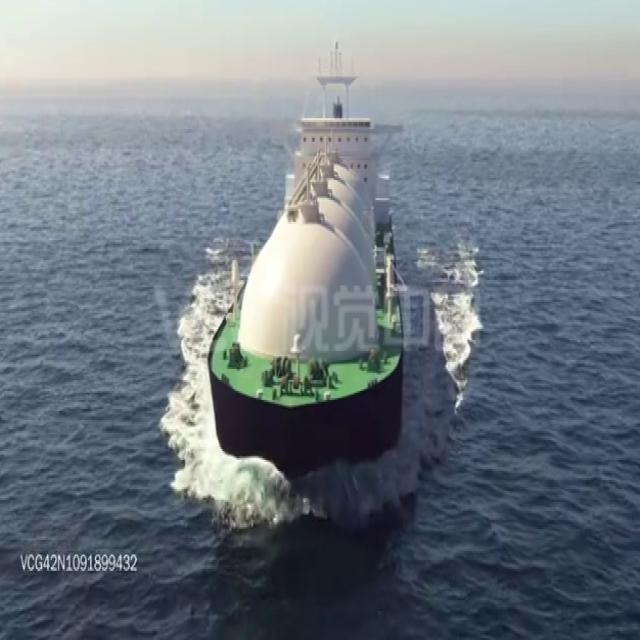cargoship: (209, 42, 406, 484)
